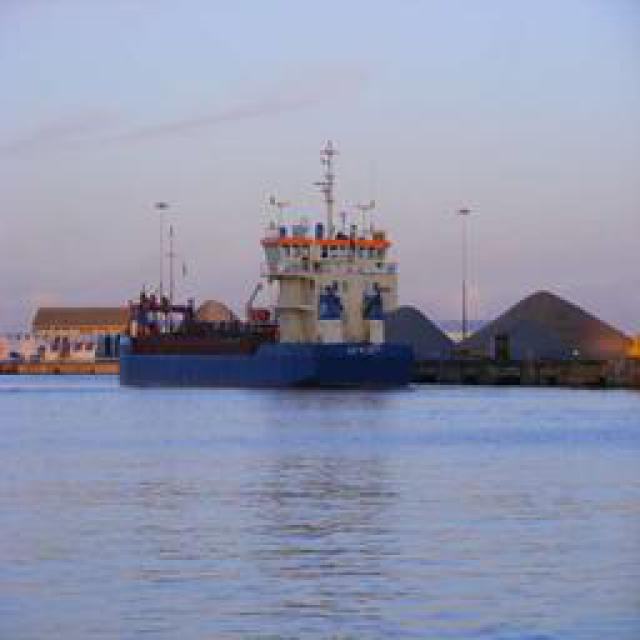Ship: (114, 135, 419, 395)
